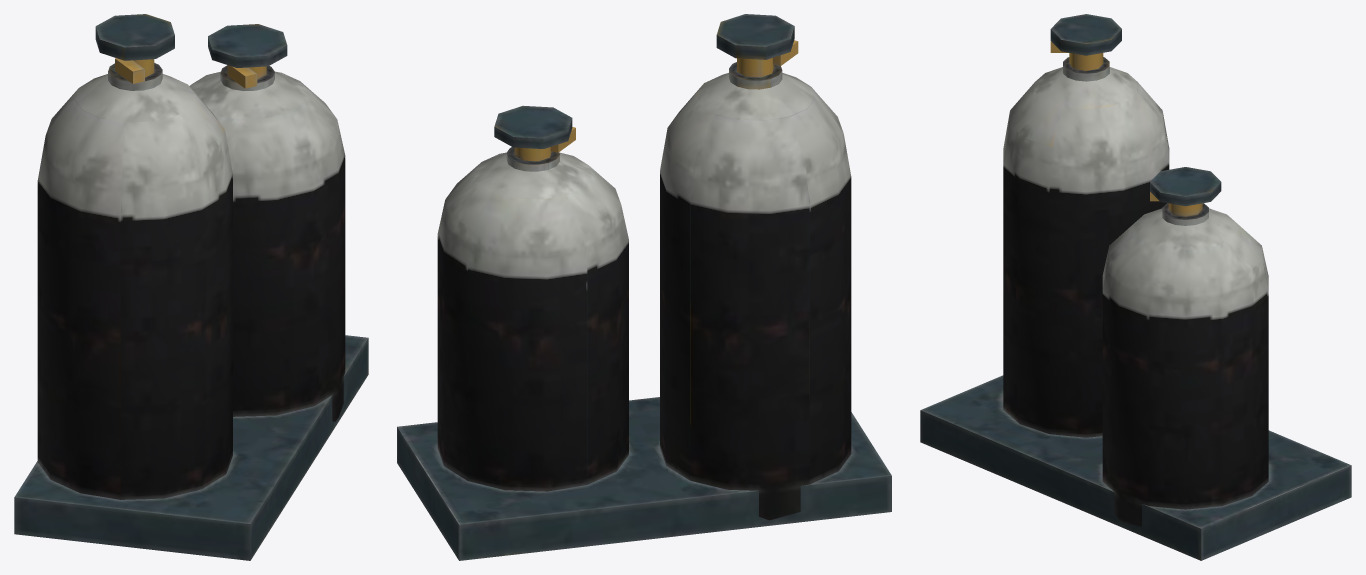
Rendered from nitrogen.glb.
3 renders of one model, left to right at view 1: azimuth 30°, elevation 25°; view 2: azimuth 150°, elevation 25°; view 3: azimuth 270°, elevation 25°, orthographic. The views are drawn at different scales.
Parts seen in each view (by area): view 1: te_res_nitrogen; view 2: te_res_nitrogen; view 3: te_res_nitrogen.
Boxes of the visible parts, x1=… form: te_res_nitrogen: x1=14, y1=14, x2=368, y2=560; te_res_nitrogen: x1=397, y1=14, x2=891, y2=560; te_res_nitrogen: x1=920, y1=14, x2=1351, y2=560.
Size of the model in its own units: 0.6081 by 0.63 by 0.6081.
1 material, 1 textured.
